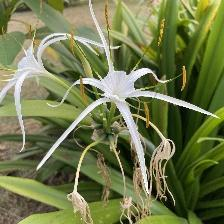spider lily: (37, 1, 222, 195)
